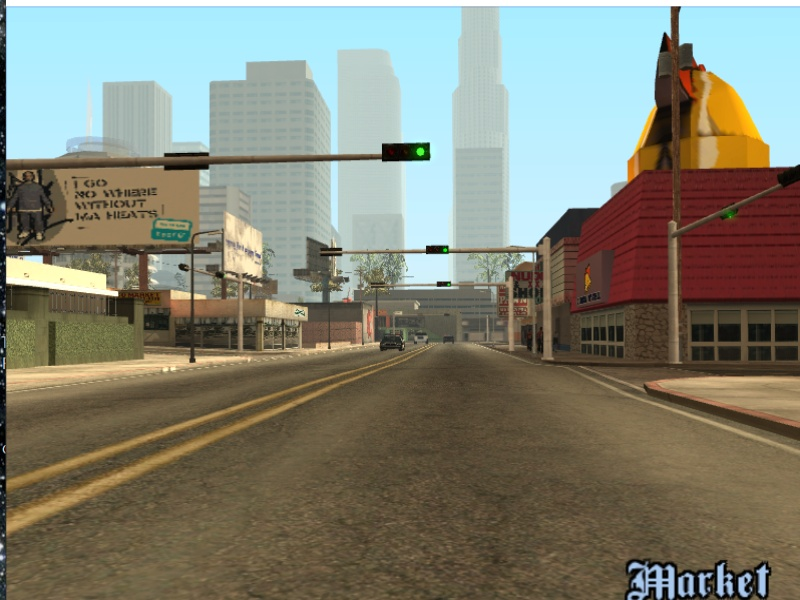pole: (666, 228, 686, 369), (537, 243, 556, 364), (187, 236, 199, 364), (232, 279, 248, 353), (503, 280, 519, 352)
vehicle: (379, 333, 404, 352), (415, 334, 431, 344)
